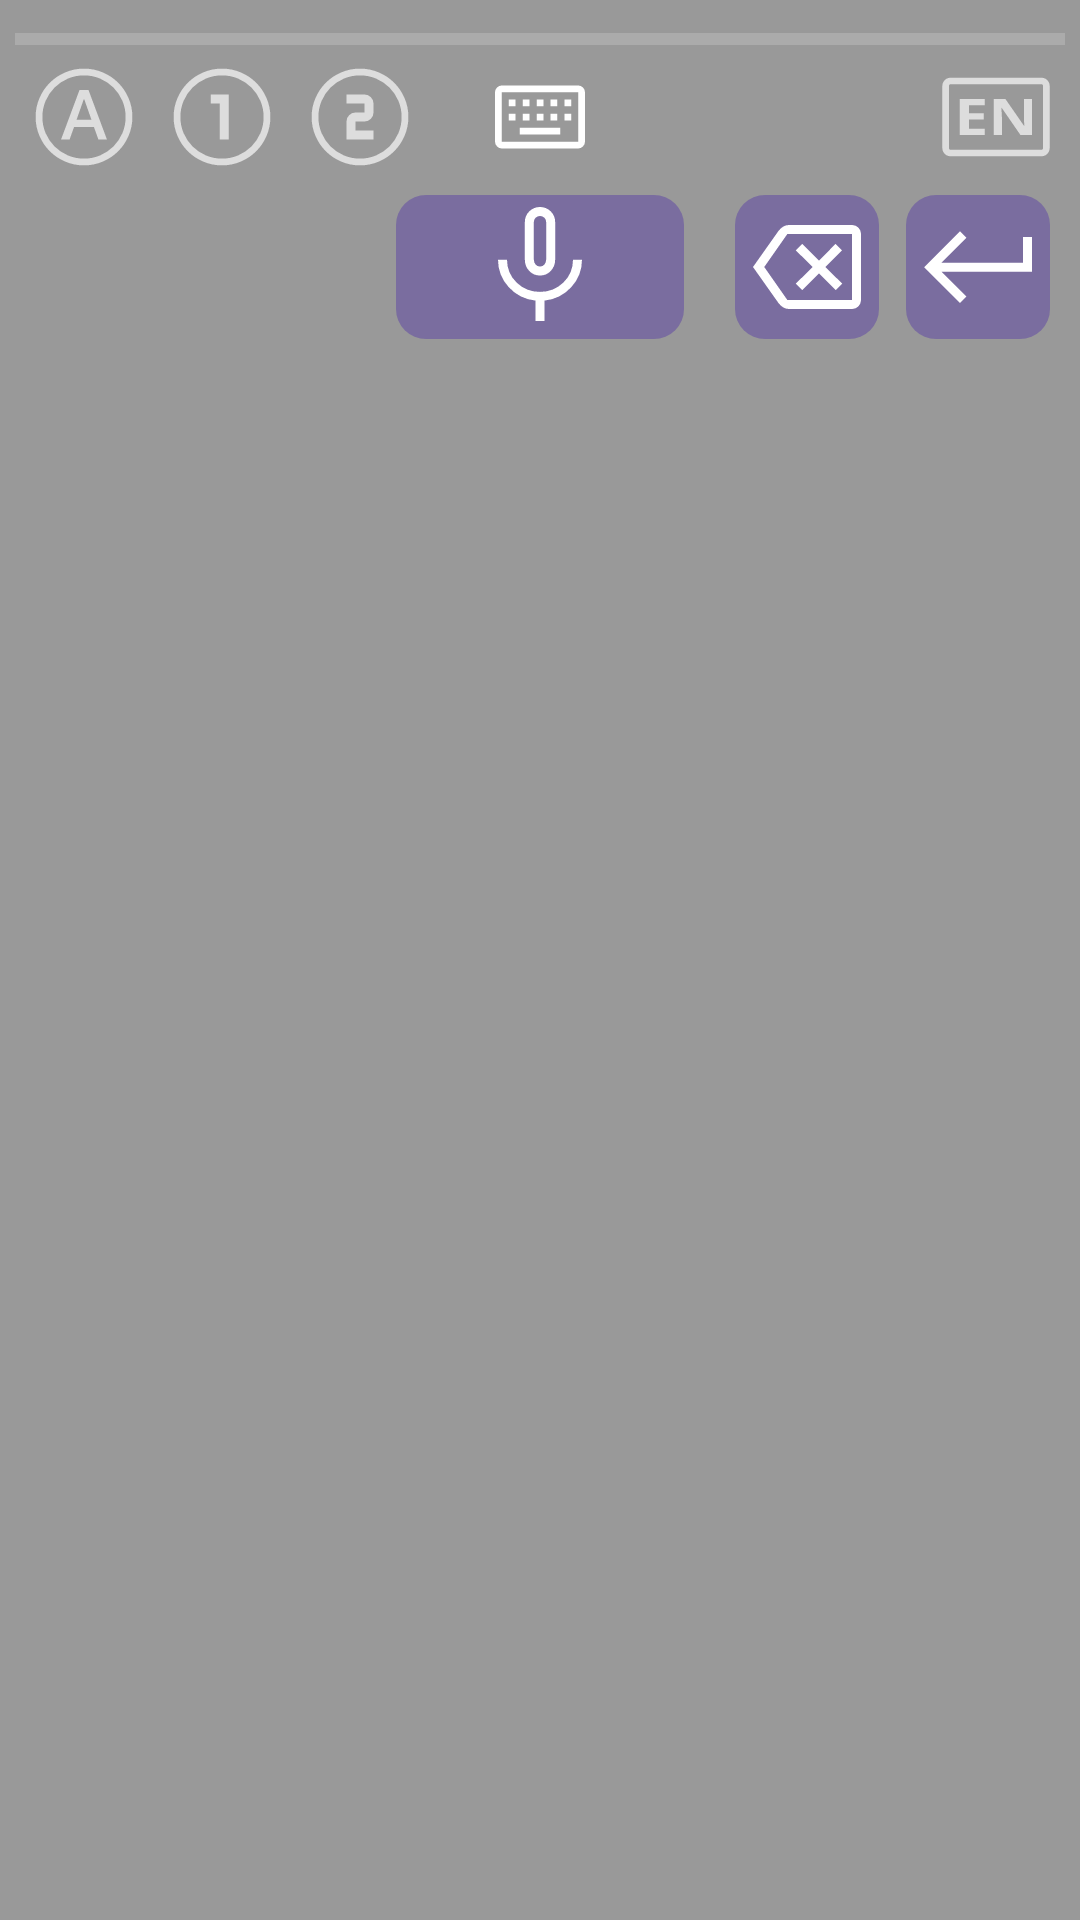

Icons on this 1080px×1920px Android screen, each with its box as (x1, y1, x2, y2):
automatic mode: (36, 69, 132, 165)
Delete: (735, 195, 879, 339)
Language 1: (174, 69, 270, 165)
Language 2: (312, 69, 408, 165)
Record: (396, 195, 684, 339)
Return: (906, 195, 1050, 339)
Translate to English: (942, 78, 1050, 156)
